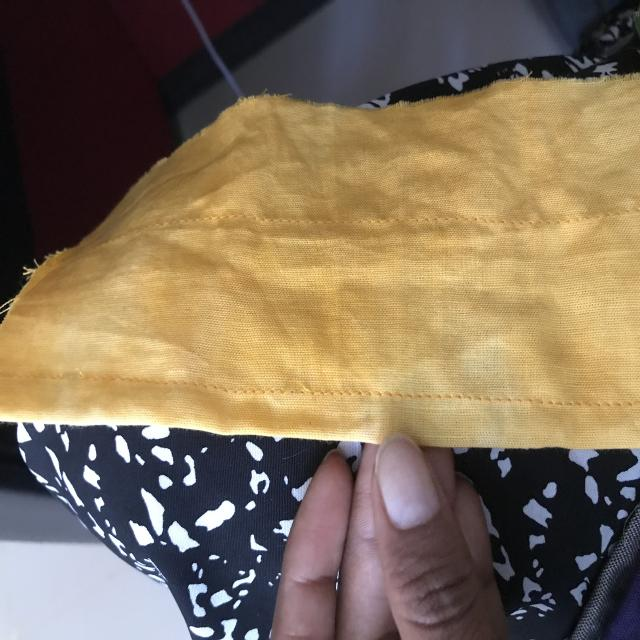broken: (278, 374, 316, 406)
